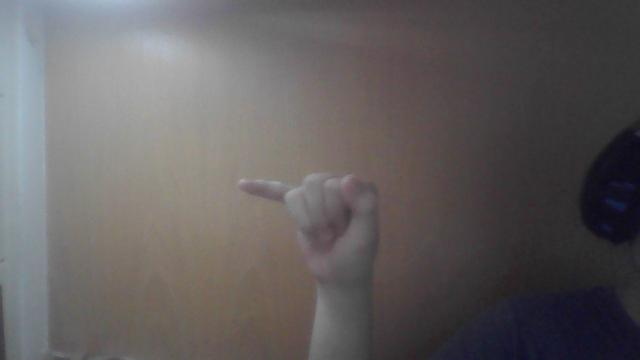Right: (239, 170, 387, 286)
